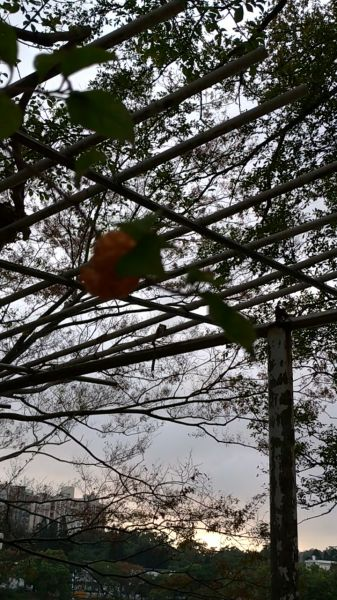eggs: (76, 229, 146, 305)
